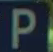Parking: (1, 3, 45, 50)
